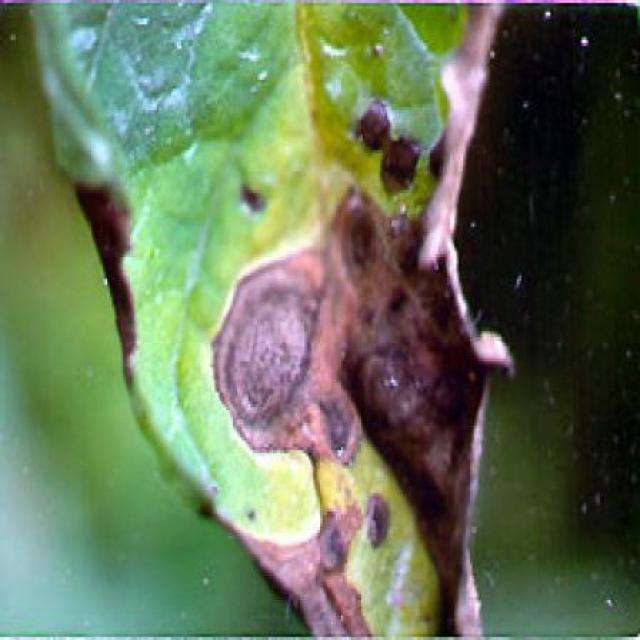Early Blight: (29, 6, 515, 637)
